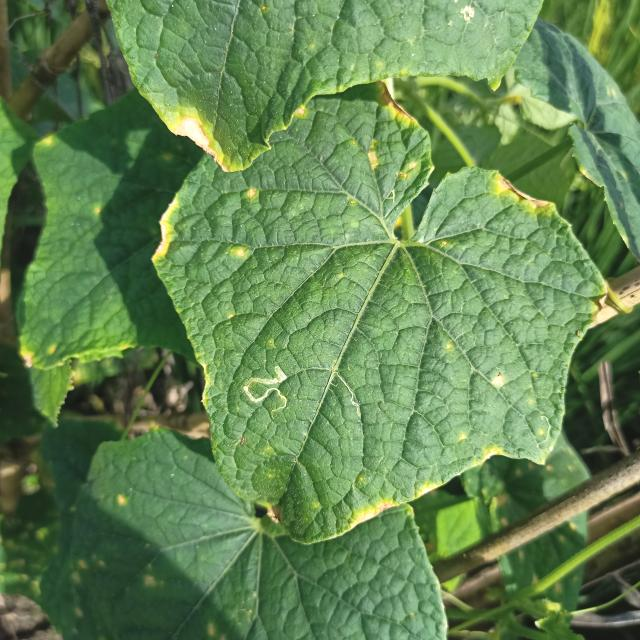disease_cucumber: (364, 103, 429, 179), (454, 430, 508, 465), (491, 371, 506, 390), (231, 246, 248, 262), (244, 185, 256, 202)
